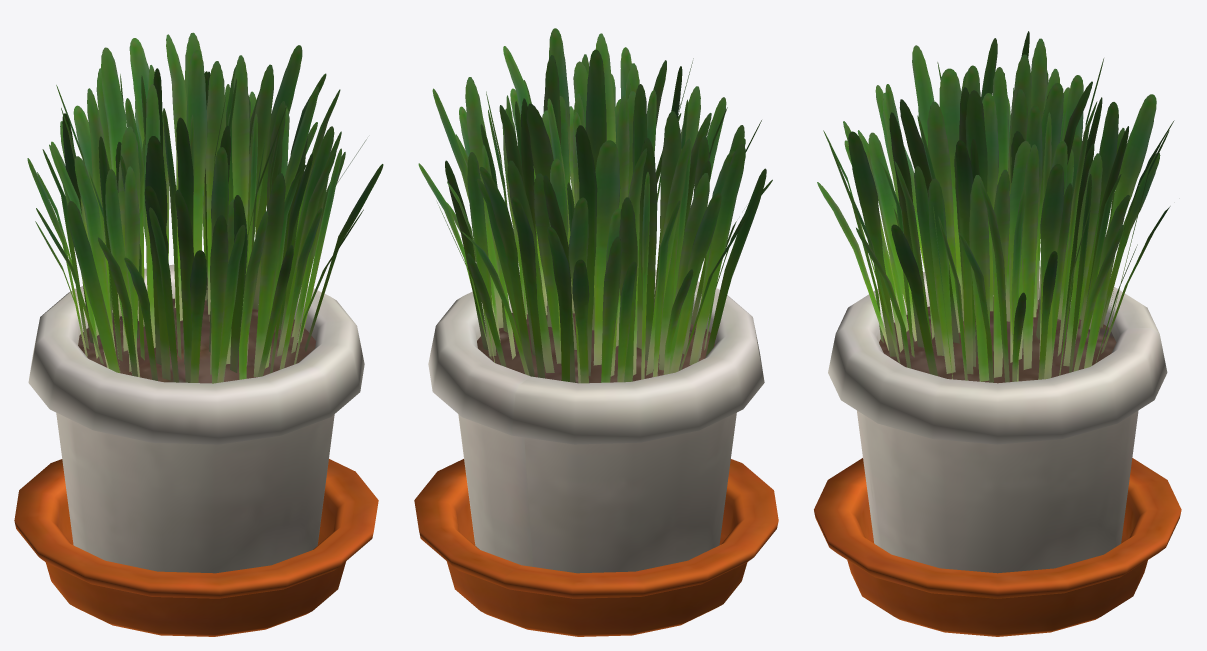
3 views of the same model, side by side, from view 1: azimuth 30°, elevation 25°; view 2: azimuth 150°, elevation 25°; view 3: azimuth 270°, elevation 25° (orthographic).
Size of the model in its own units: 3.63 by 5.74 by 3.78.
Materials: 1 (1 with a texture image).
